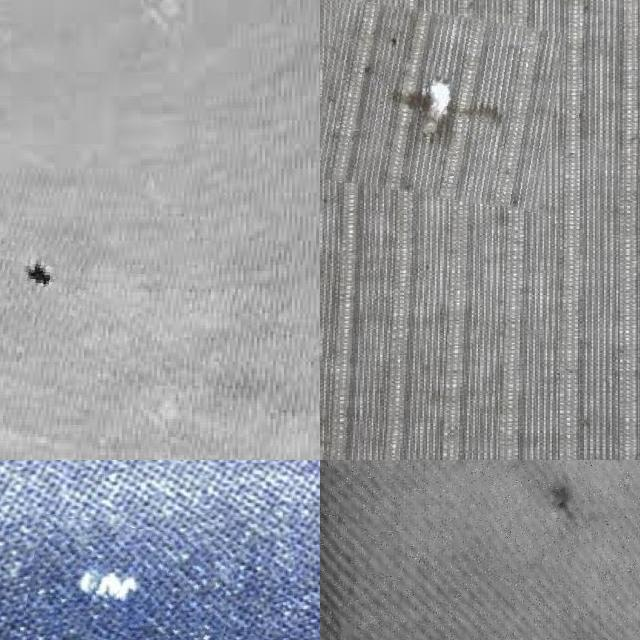Thread_other: (28, 520, 234, 640)
seam: (320, 5, 559, 205), (456, 460, 640, 588), (0, 235, 92, 335)
